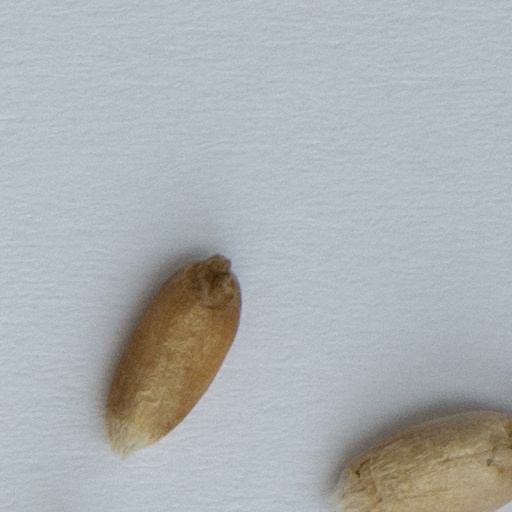Wheat-grain-poly: (106, 254, 243, 455), (327, 406, 511, 510)
